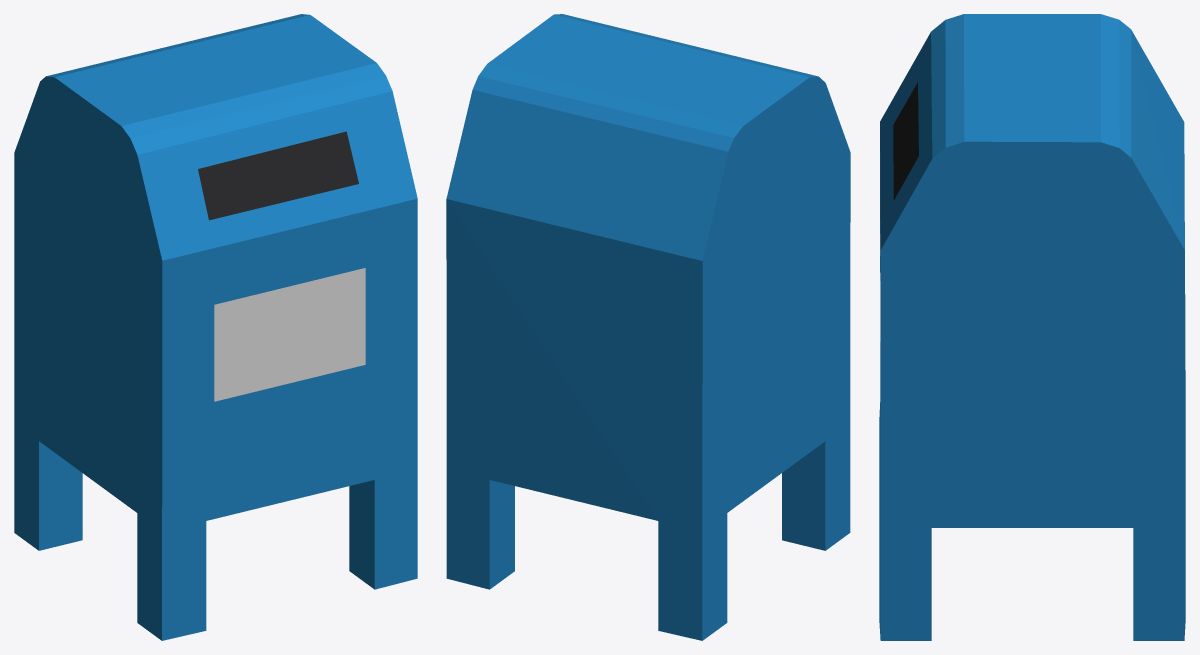
Rendered from Mailbox 2.fbx.
The picture shows the model from 3 angles, left to right: view 1: azimuth 30°, elevation 25°; view 2: azimuth 150°, elevation 25°; view 3: azimuth 270°, elevation 25°; orthographic projection. The views are drawn at different scales.
Parts seen in each view (by area): view 1: Mailbox_02; view 2: Mailbox_02; view 3: Mailbox_02.
Part boxes in pixels (bbox=[...]): Mailbox_02: bbox=[14, 14, 417, 640]; Mailbox_02: bbox=[446, 14, 850, 640]; Mailbox_02: bbox=[879, 14, 1185, 640].
Bounding box in the file's own units: 39.76 × 72.15 × 40.14.
